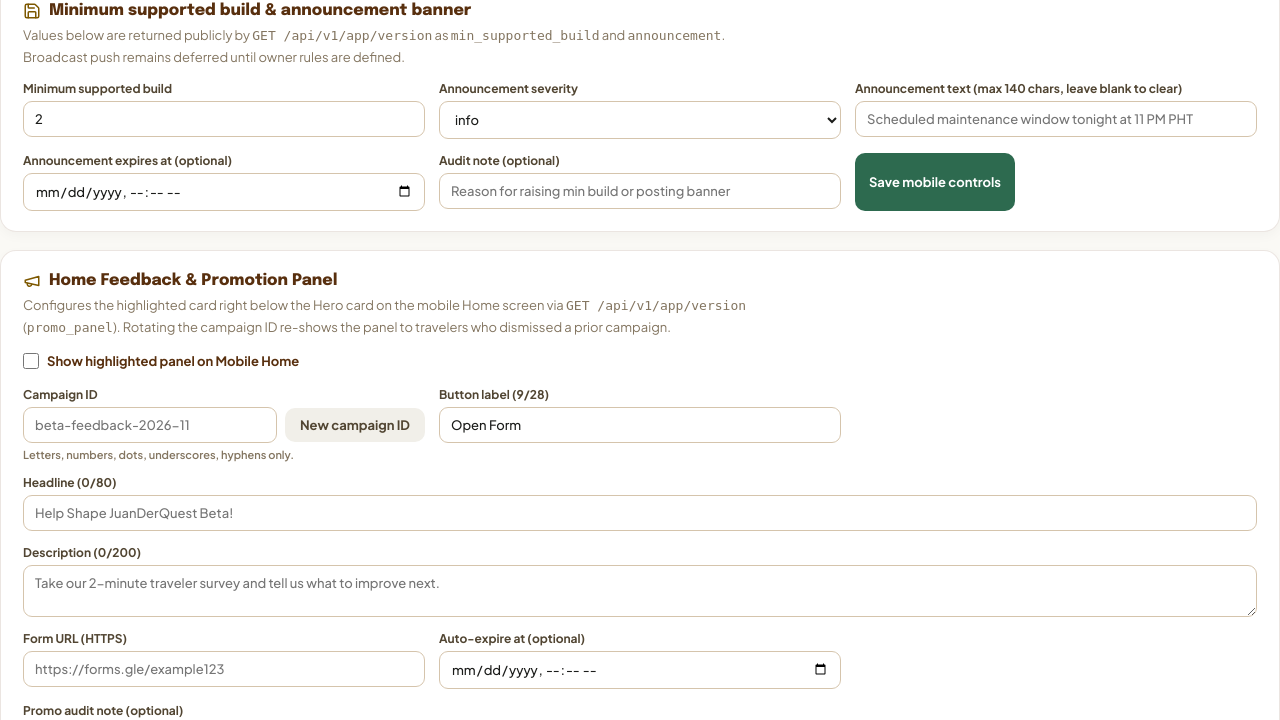
MobileAppPage (WP-5) › renders promo panel controls + live preview, validates HTTPS URL, rotates campaign_id, and saves all 7 keys
Later steps or results of the test are not shown.
(page scrolled)
Expected: the heading "Home Feedback & Promotion Panel" is shown, top-left (23, 272), bottom-right (338, 290)
Click the checkbox labelled "Show highlighted panel on Mobile Home" at (31, 361), box top-left (23, 353), bottom-right (39, 369)
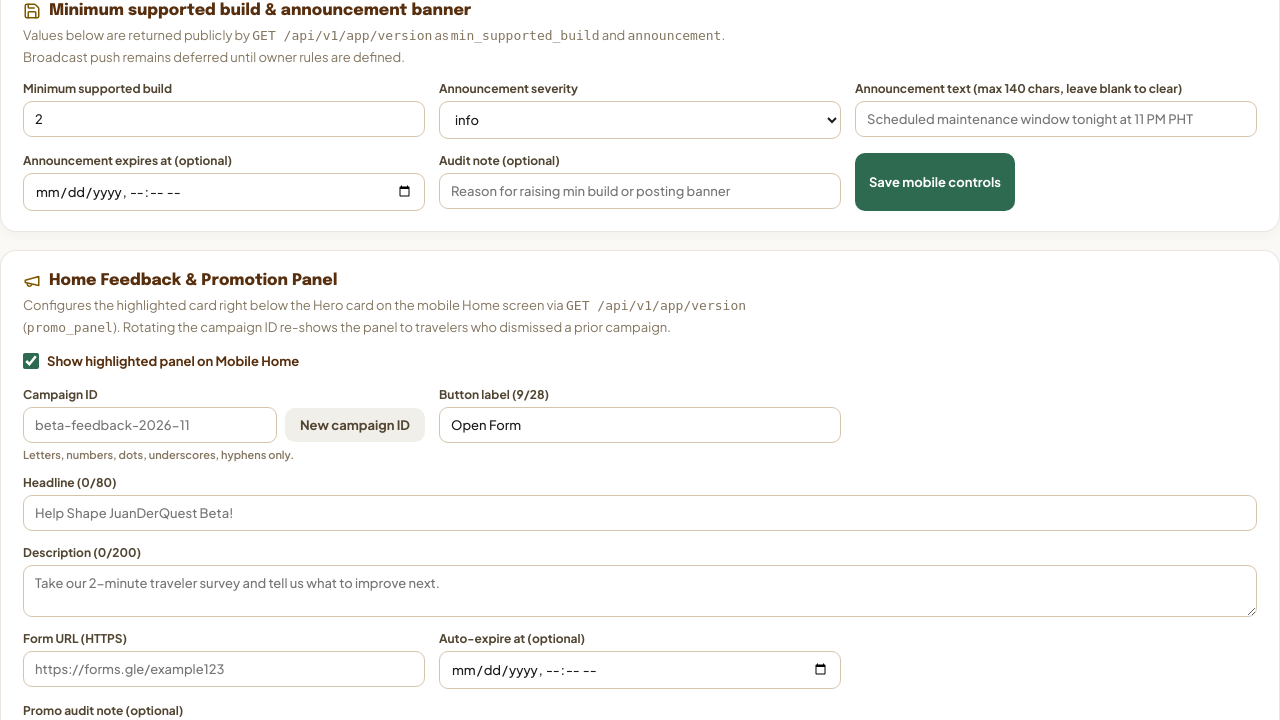
Type "Share Beta Feedback!" into the field labelled "Headline (0/80)" at (640, 513), box top-left (23, 495), bottom-right (1257, 531)
Replace the text in the text box labelled "Description (0/200)" with "Help us polish v0.4." at (640, 591), box top-left (23, 565), bottom-right (1257, 617)
Type "Take Survey" into the field labelled "Button label (9/28)" at (640, 425), box top-left (439, 407), bottom-right (841, 443)
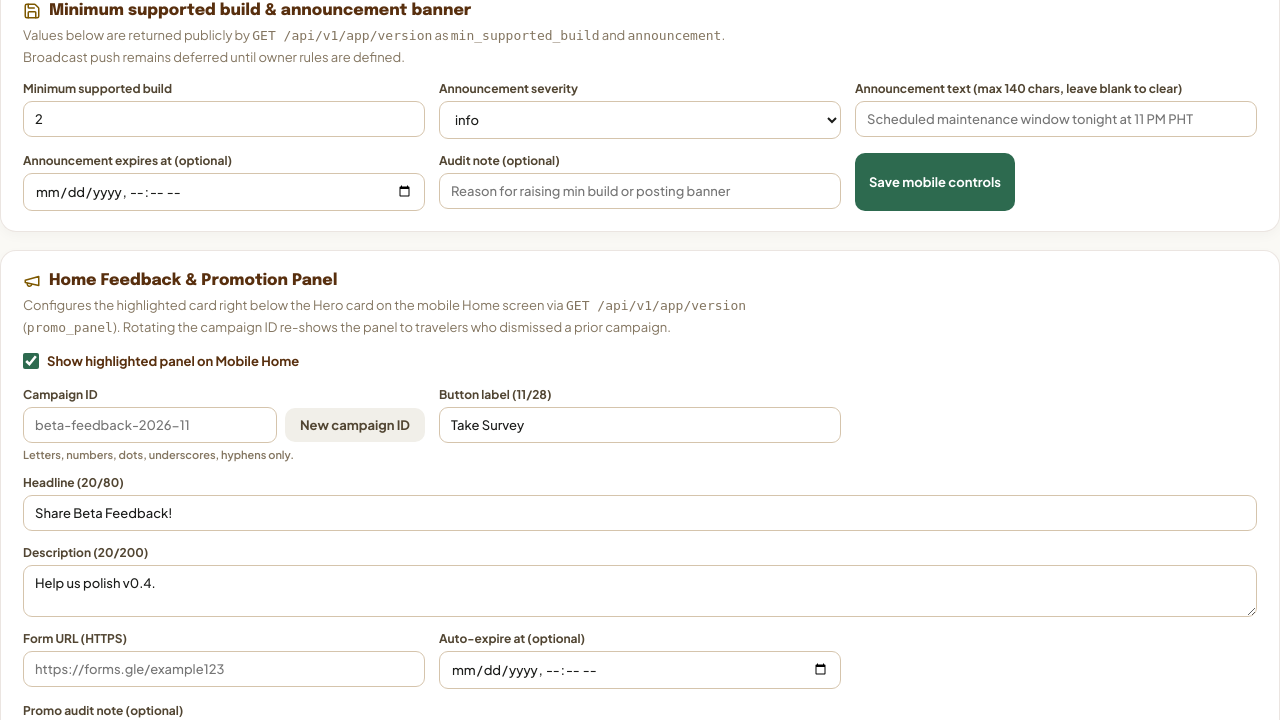
Type "http://insecure.example.com" into the field labelled "Form URL (HTTPS)" at (224, 669), box top-left (23, 651), bottom-right (425, 687)
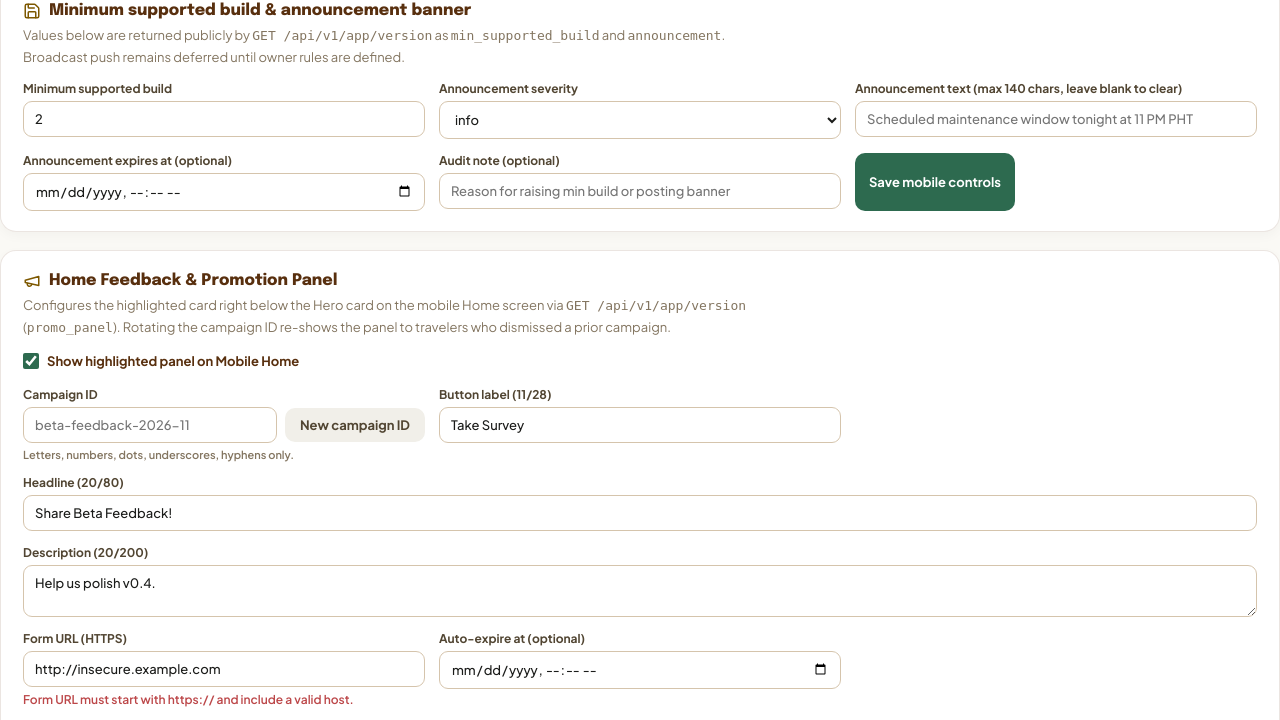
Expected: the text "Form URL must start with https:// and include a valid host." is shown, top-left (23, 692), bottom-right (354, 707)
Replace the text in the field labelled "Form URL (HTTPS)" with "https://forms.gle/abc123" at (224, 669), box top-left (23, 651), bottom-right (425, 687)
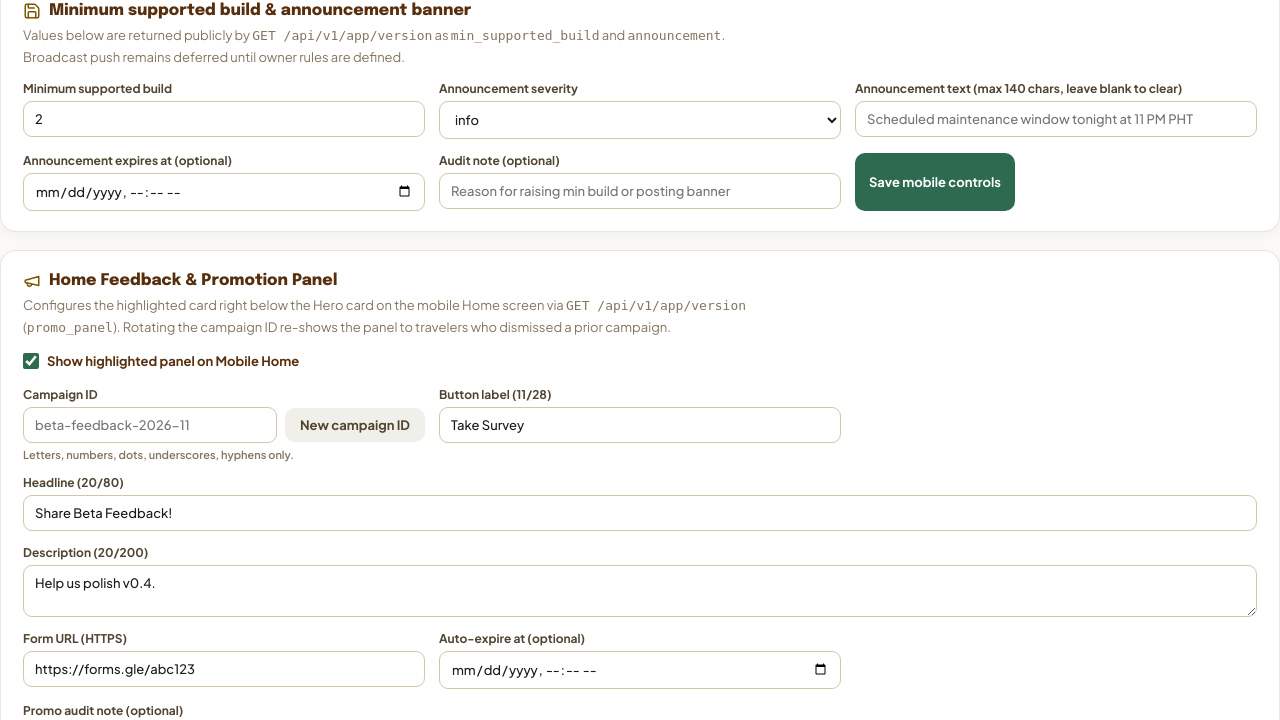
Click the button "New campaign ID" at (355, 425), box top-left (285, 408), bottom-right (425, 442)
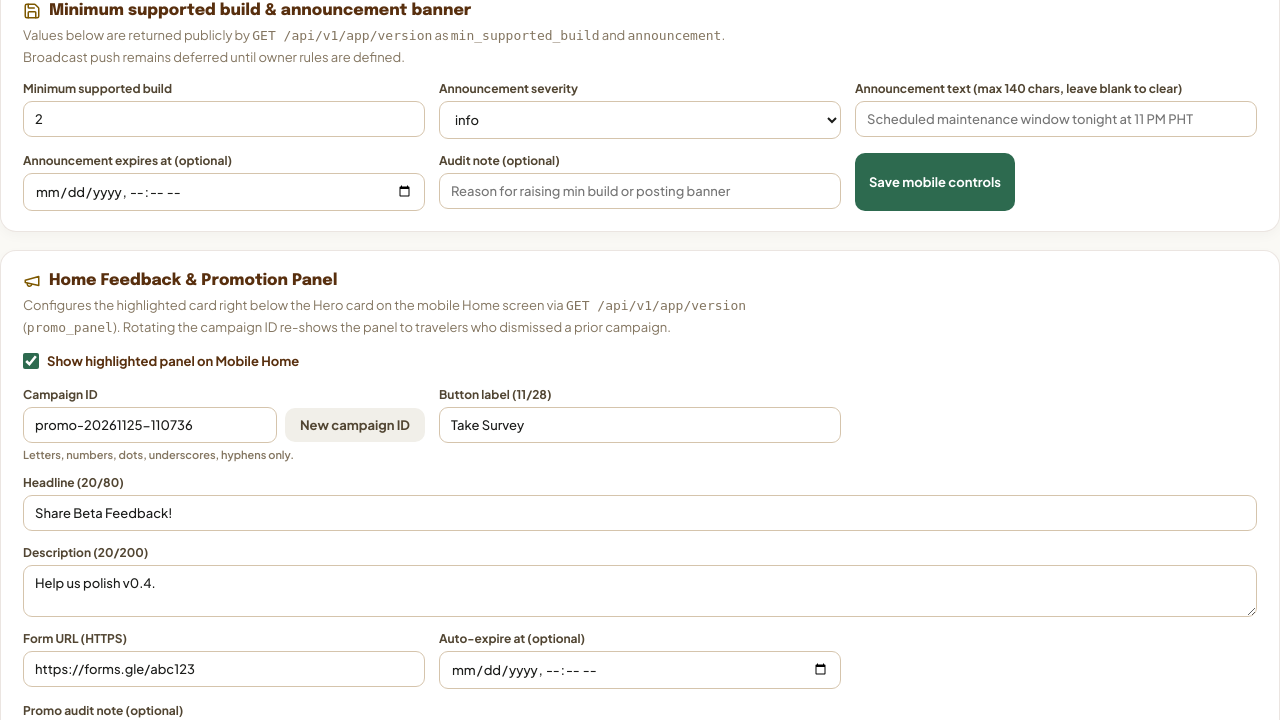
Type "2099-12-15T23:59" into the field labelled "Auto-expire at (optional)" at (640, 670), box top-left (439, 651), bottom-right (841, 689)
(page scrolled)
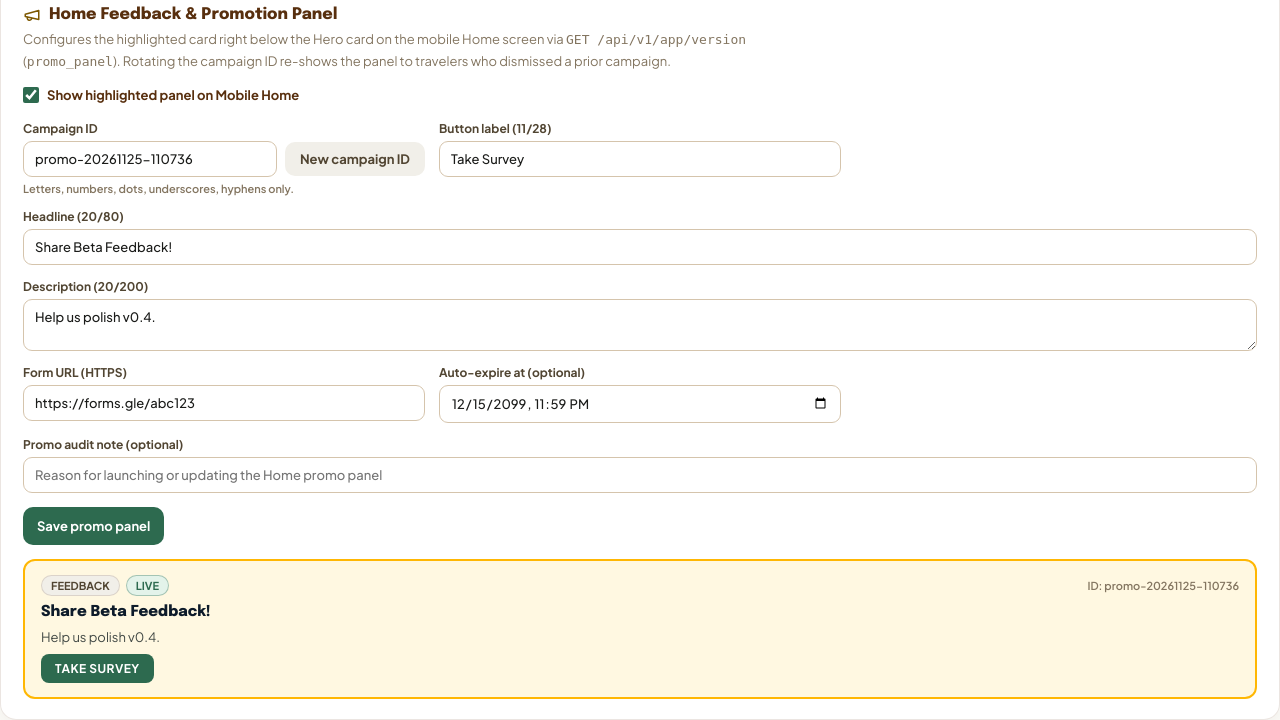
Expected: the button "Save promo panel" is enabled, top-left (23, 507), bottom-right (164, 545)
